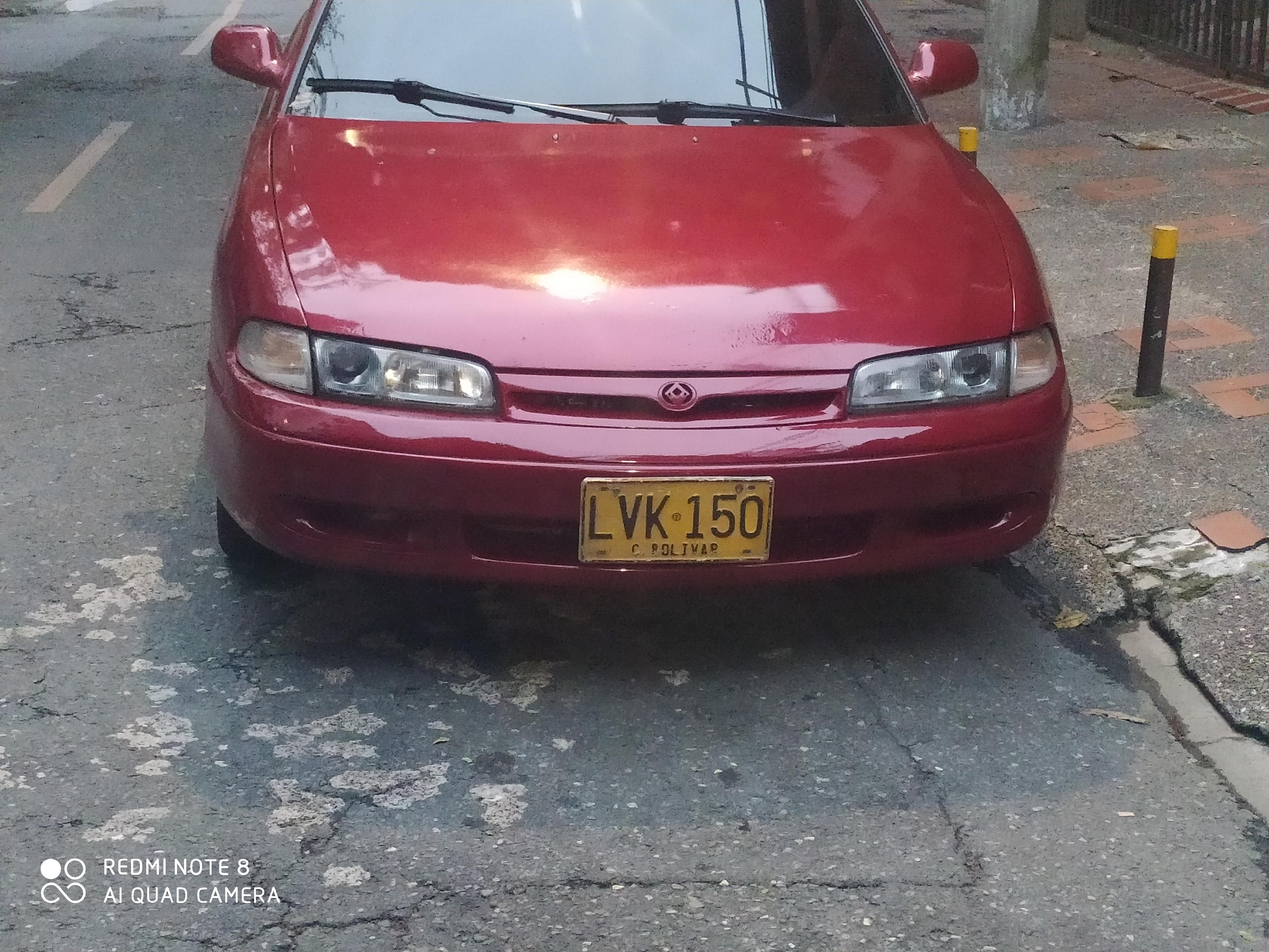placa: (568, 470, 781, 568)
